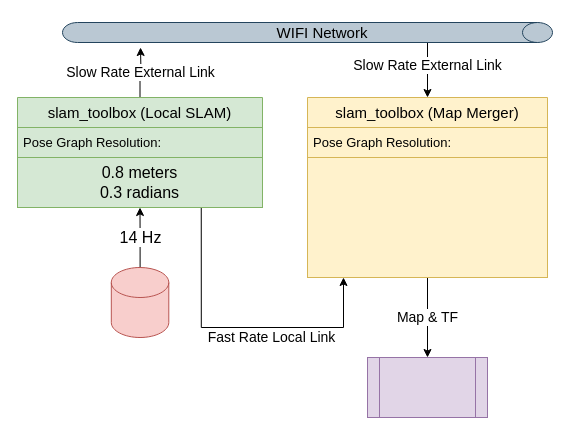
This 570x435 diagram has some shape labels left out. Here are the shapes that lost their labels. From the top down, the centre of each, then its label:
At (x=427, y=217): "For Host-Robot map: 0.8 meters 0.5 radians For external maps: 0.8 meters".
At (x=139, y=302): "LIDAR".
At (x=427, y=387): "Navigation Stack".
